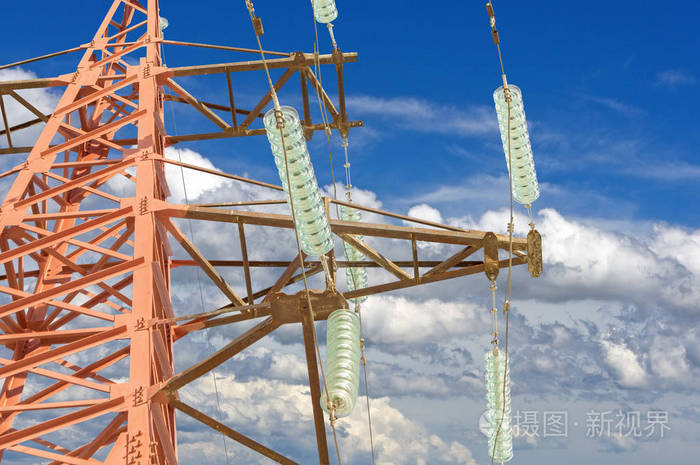insulator: (262, 106, 331, 257), (490, 85, 542, 208), (321, 306, 362, 418), (484, 347, 518, 462), (339, 200, 372, 301)
